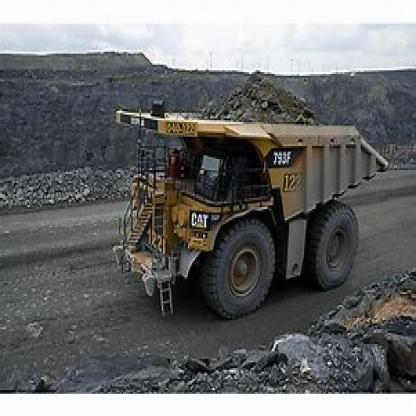dump_truck: (115, 72, 384, 320)
